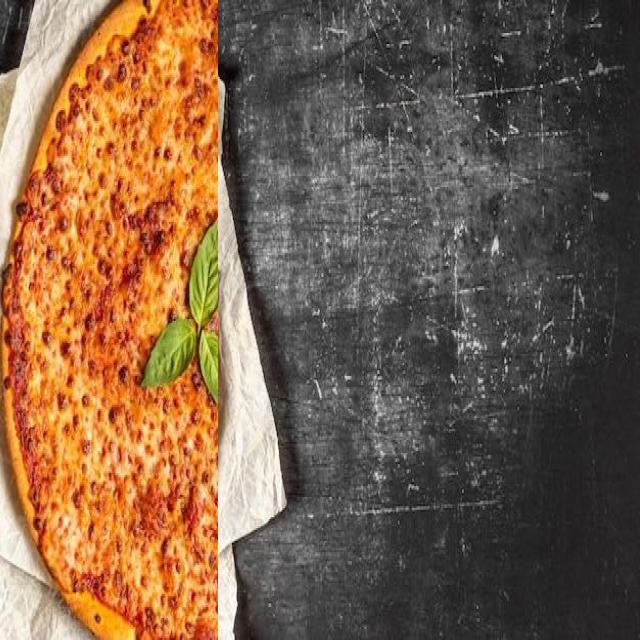basil: (22, 320, 78, 388), (0, 217, 29, 326), (0, 328, 18, 403)
pizza: (0, 0, 218, 640)
